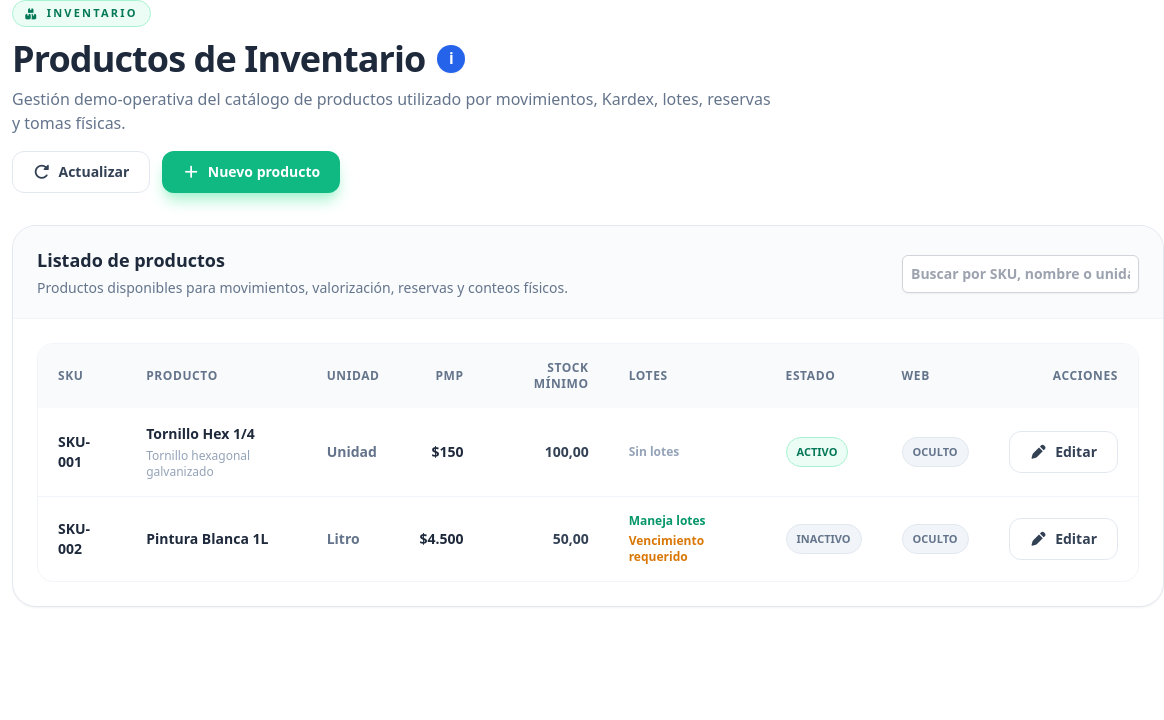
Test case: ProductosInventario — formulario de alta › oculta el formulario al pulsar "Cerrar formulario"
The width and height of the screenshot is (1164, 720).
Click the button "Nuevo producto". click: (251, 172)
box: [162, 151, 340, 193]
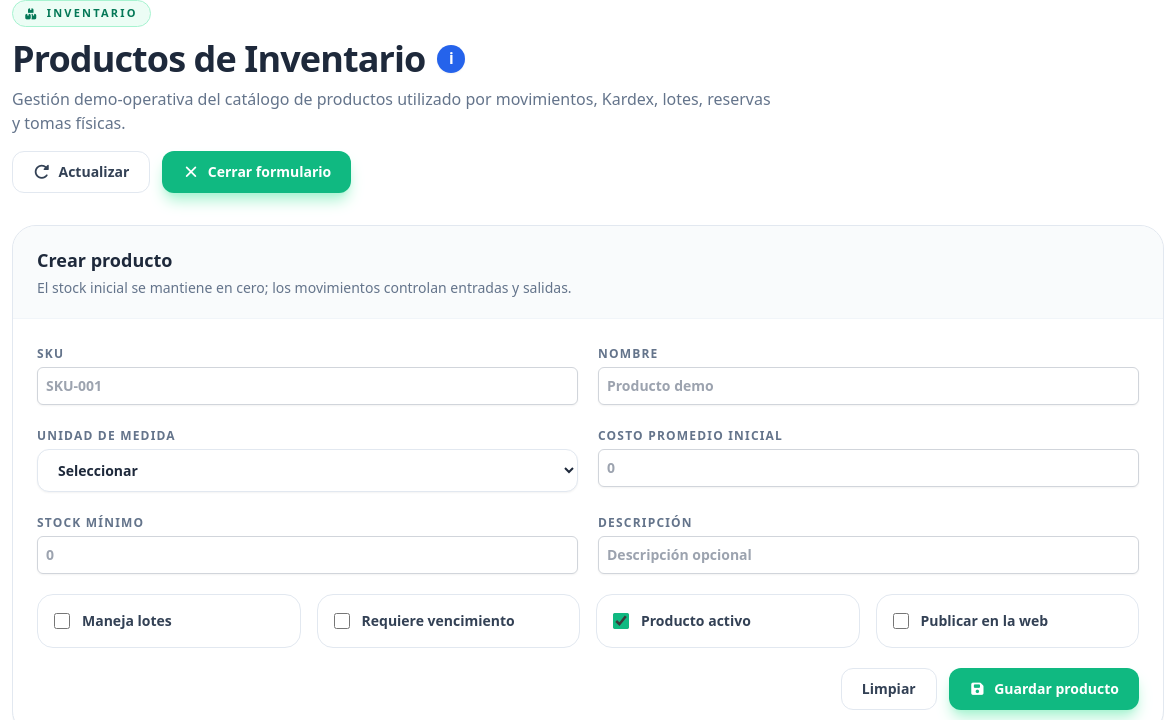
Expected: the heading "Crear producto" is shown, [37, 248, 172, 272]
Click the button "Cerrar formulario". click: (257, 172)
box: [162, 151, 351, 193]
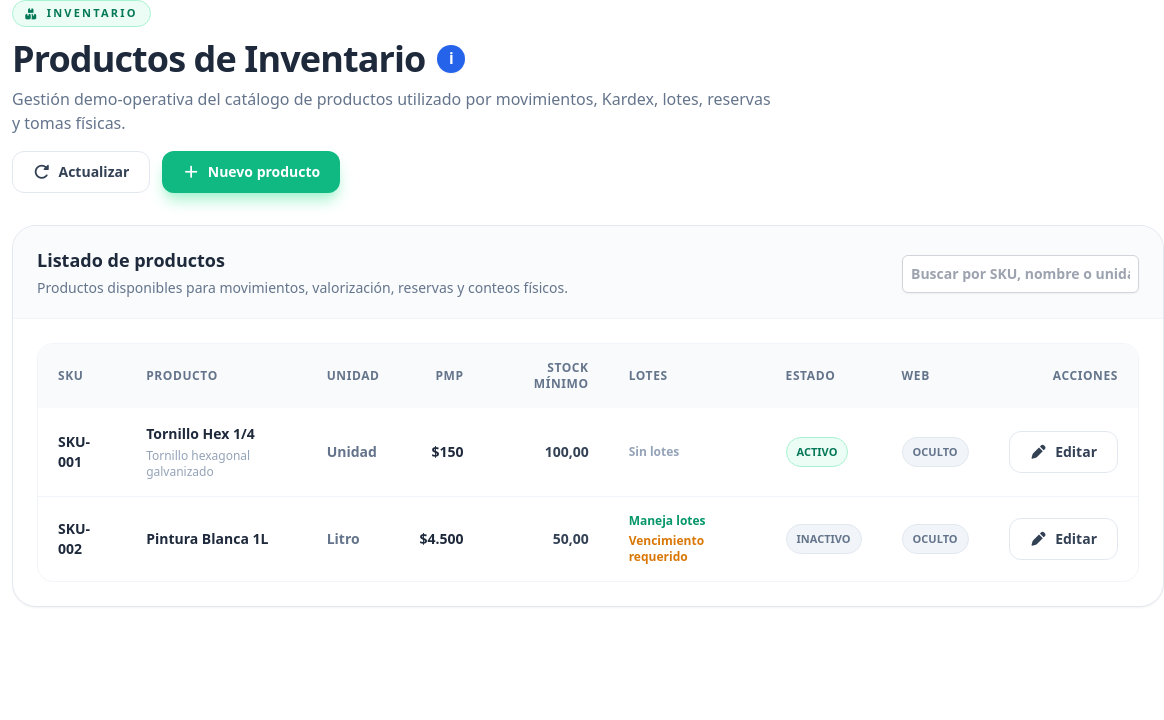
Expected: the heading "Crear producto" is gone
